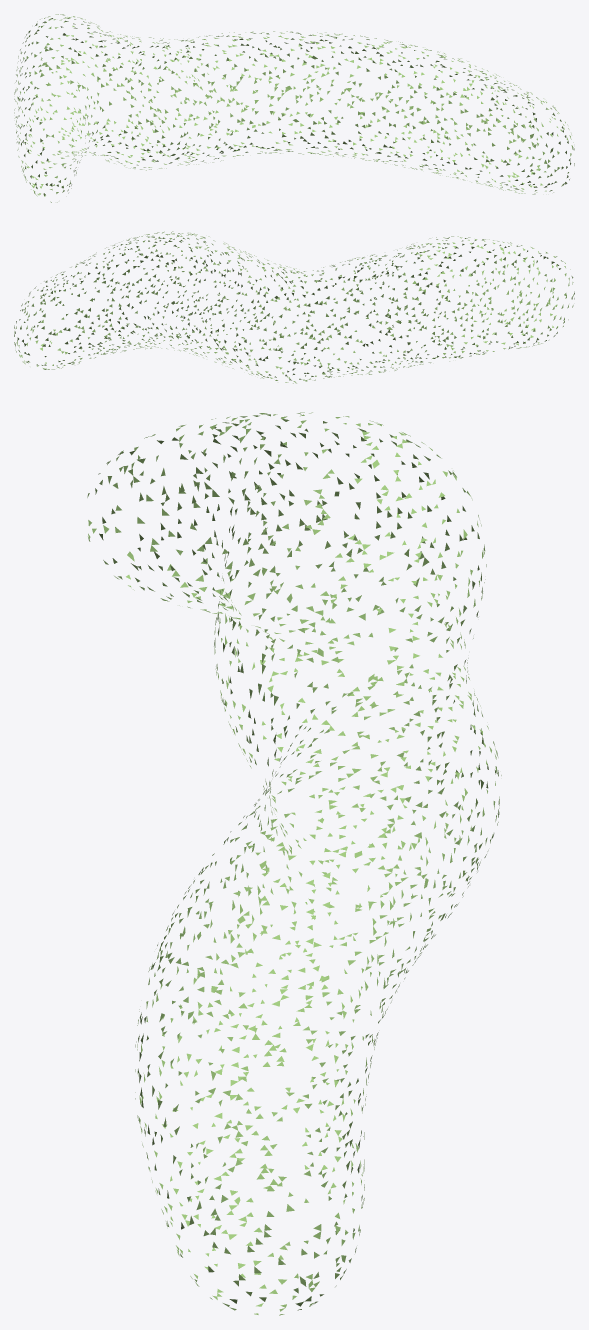
The model's file is morph_013.glb.
3 renders of one model, top to bottom at view 1: azimuth 30°, elevation 25°; view 2: azimuth 150°, elevation 25°; view 3: azimuth 270°, elevation 25°, orthographic. The views are drawn at different scales.
Size of the model in its own units: 106 by 47.75 by 37.19.
